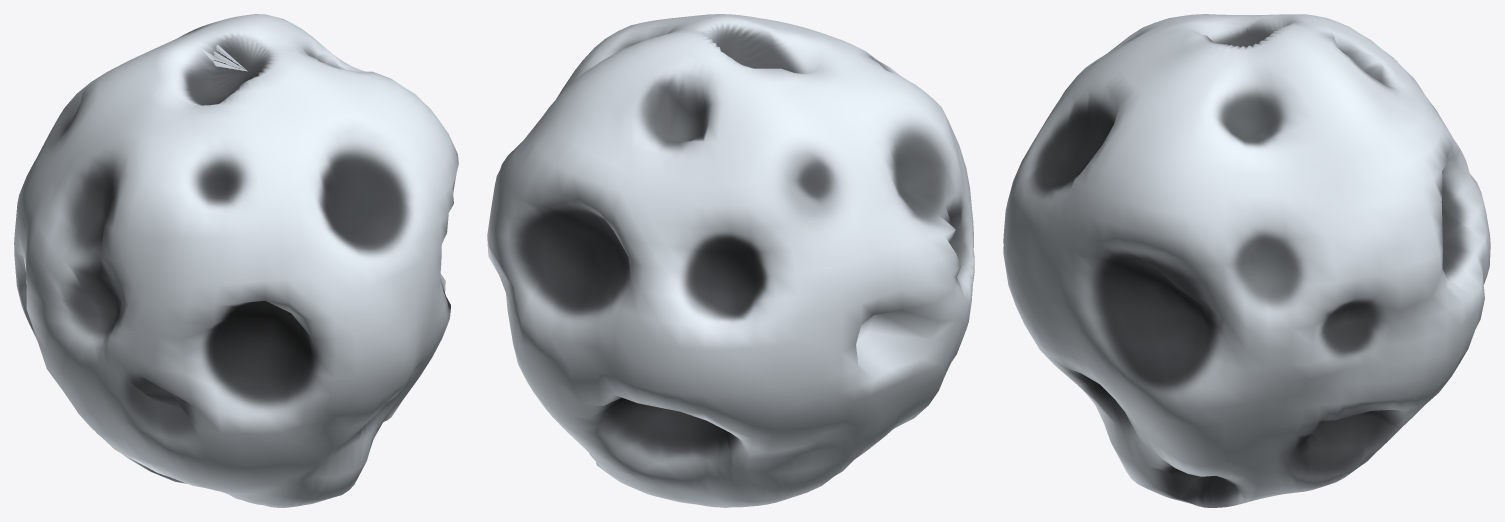
The model's file is Asteroid.fbx.
3 renders of one model, left to right at view 1: azimuth 30°, elevation 25°; view 2: azimuth 150°, elevation 25°; view 3: azimuth 270°, elevation 25°, orthographic. The views are drawn at different scales.
Visible parts, largest first — view 1: Sphere; view 2: Sphere; view 3: Sphere.
Boxes of the visible parts, x1,y1,x2,y2 form: Sphere: [14, 14, 458, 507]; Sphere: [487, 14, 974, 507]; Sphere: [1003, 14, 1490, 507].
Bounding box in the file's own units: 222 × 239 × 229.
